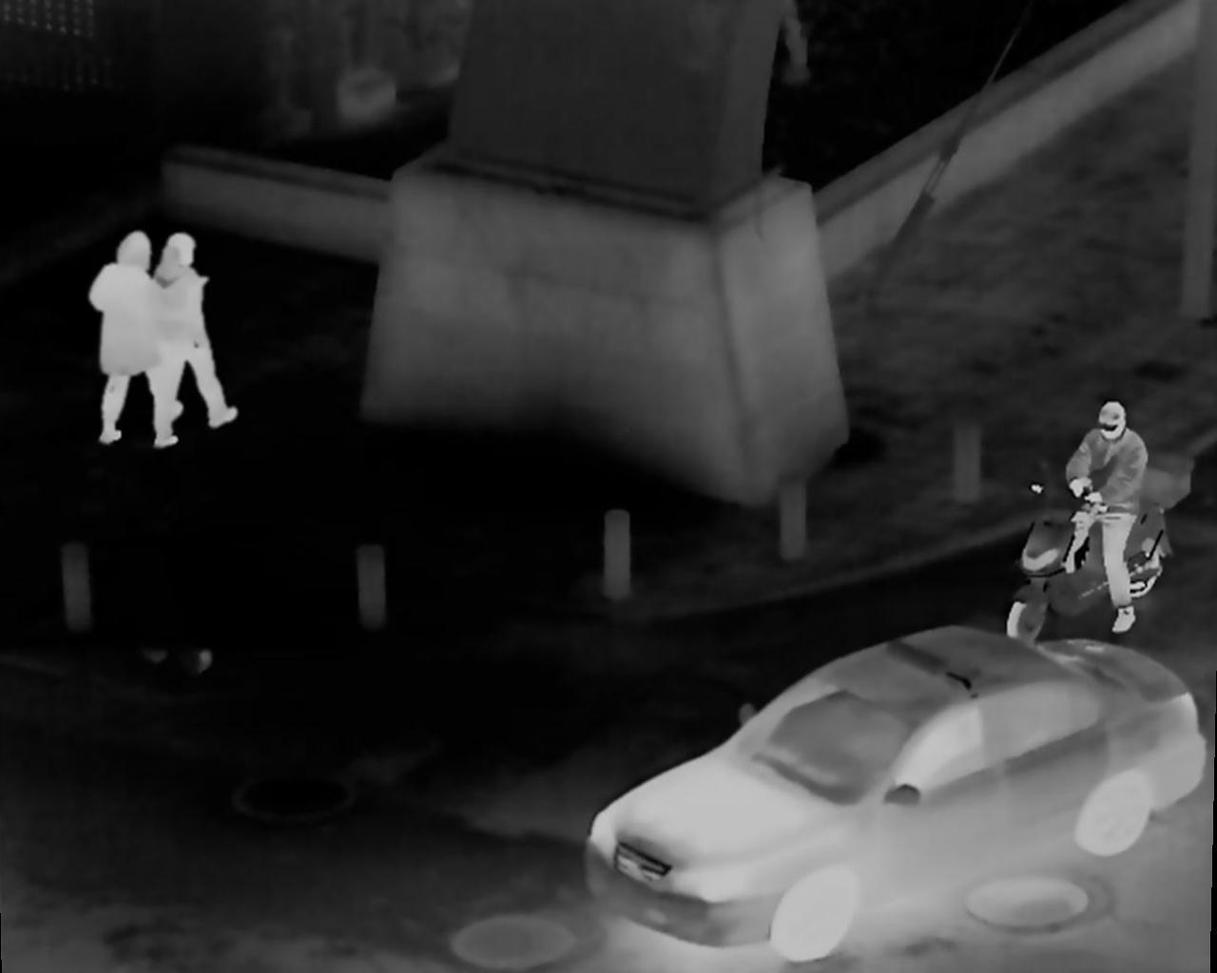person: (1045, 398, 1157, 627), (158, 232, 253, 430), (86, 233, 165, 449)
